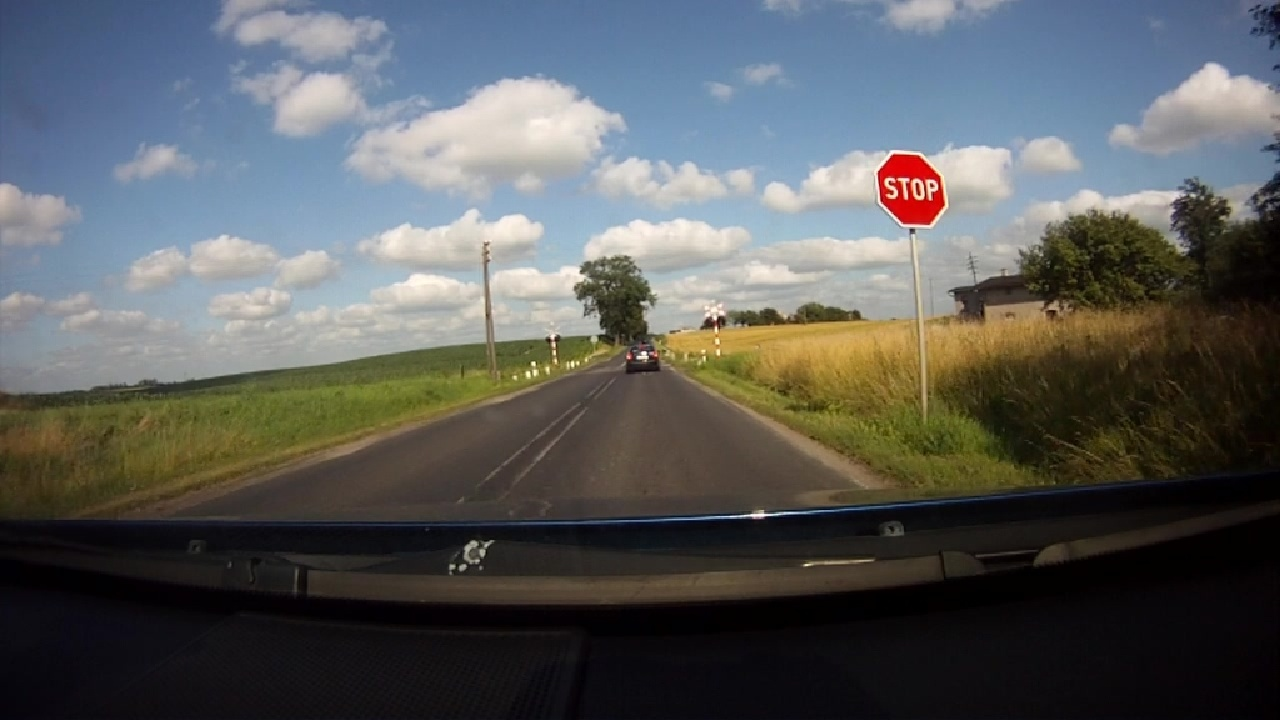B20: (873, 150, 948, 230)
